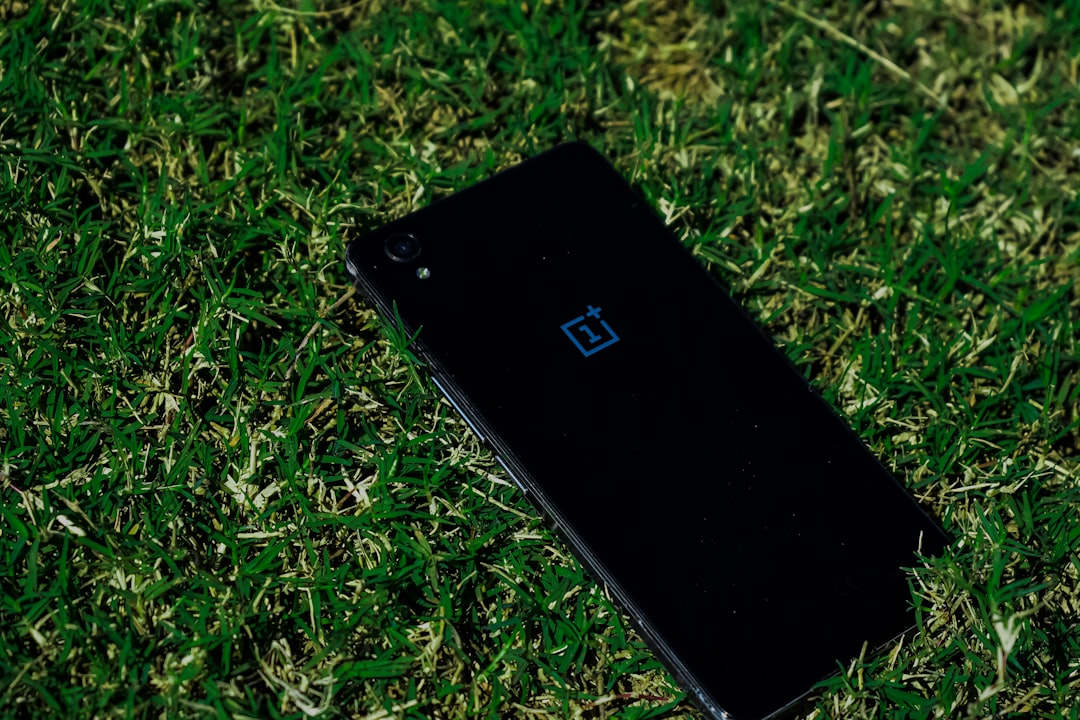phone: (344, 138, 959, 720)
